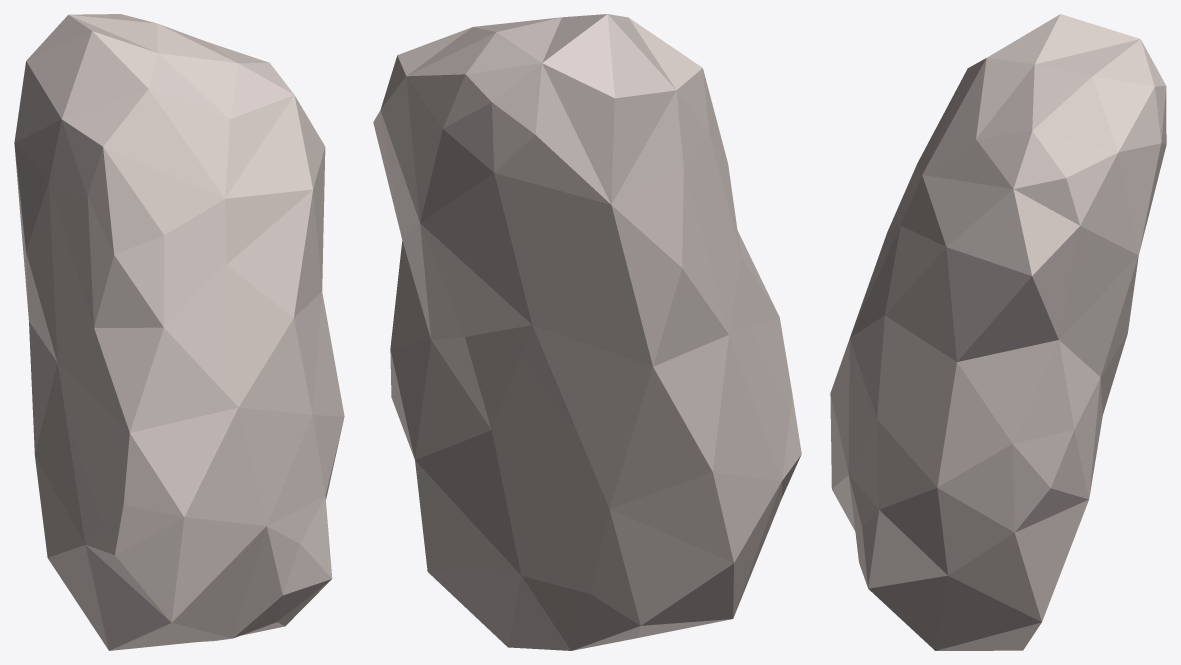
File: rock_011.fbx
3 renders of one model, left to right at view 1: azimuth 30°, elevation 25°; view 2: azimuth 150°, elevation 25°; view 3: azimuth 270°, elevation 25°, orthographic. The views are drawn at different scales.
Visible parts, largest first — view 1: rock.011; view 2: rock.011; view 3: rock.011.
Part boxes in pixels (left/top/right/bottom): rock.011: left=14, top=14, right=344, bottom=650; rock.011: left=373, top=14, right=801, bottom=650; rock.011: left=830, top=14, right=1166, bottom=650.
Bounding box in the file's own units: 924 × 1753 × 912.
Materials: 1 (1 with a texture image).
